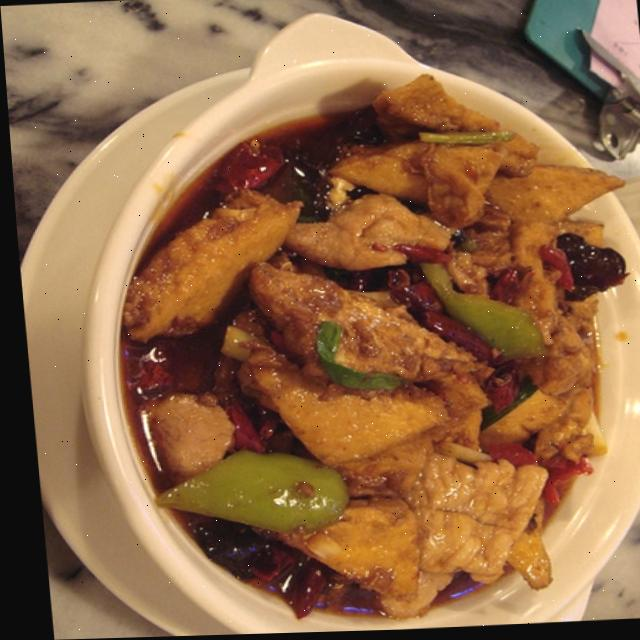豆腐料理: (18, 0, 640, 640)
